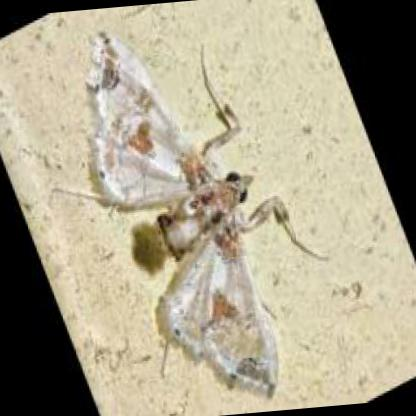leucinodes: (89, 33, 296, 400)
